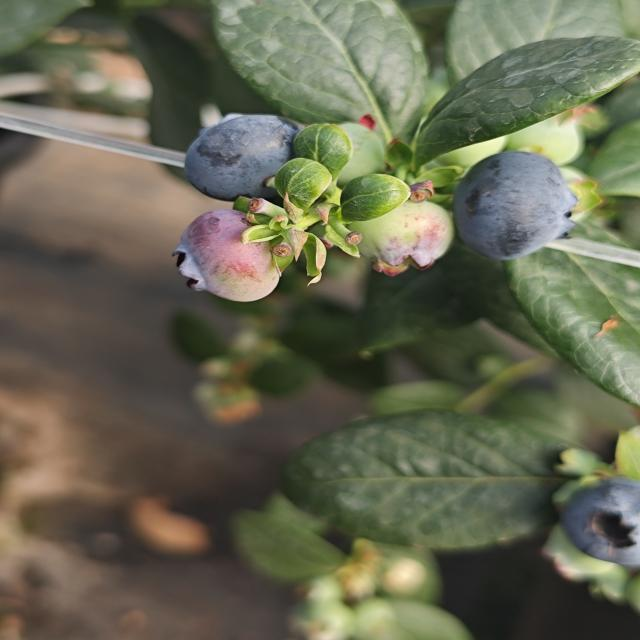ripe: (448, 150, 581, 264), (178, 112, 314, 208), (559, 471, 640, 568)
